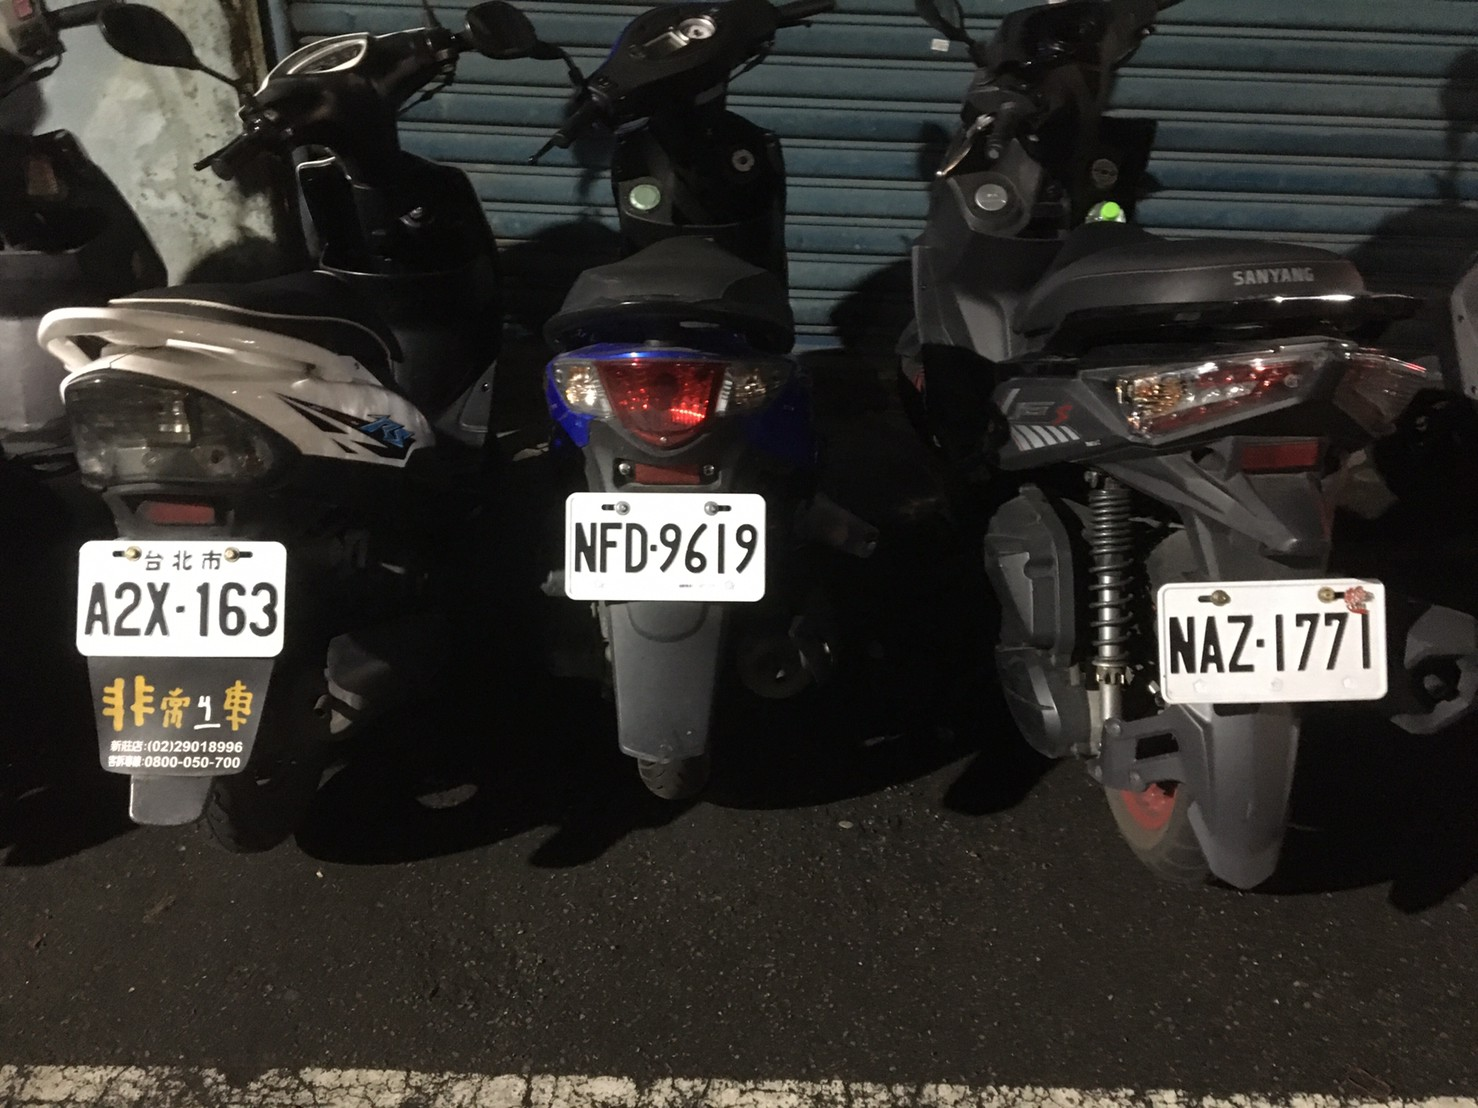LP: (1152, 571, 1389, 707), (76, 537, 289, 659), (565, 489, 771, 607)
